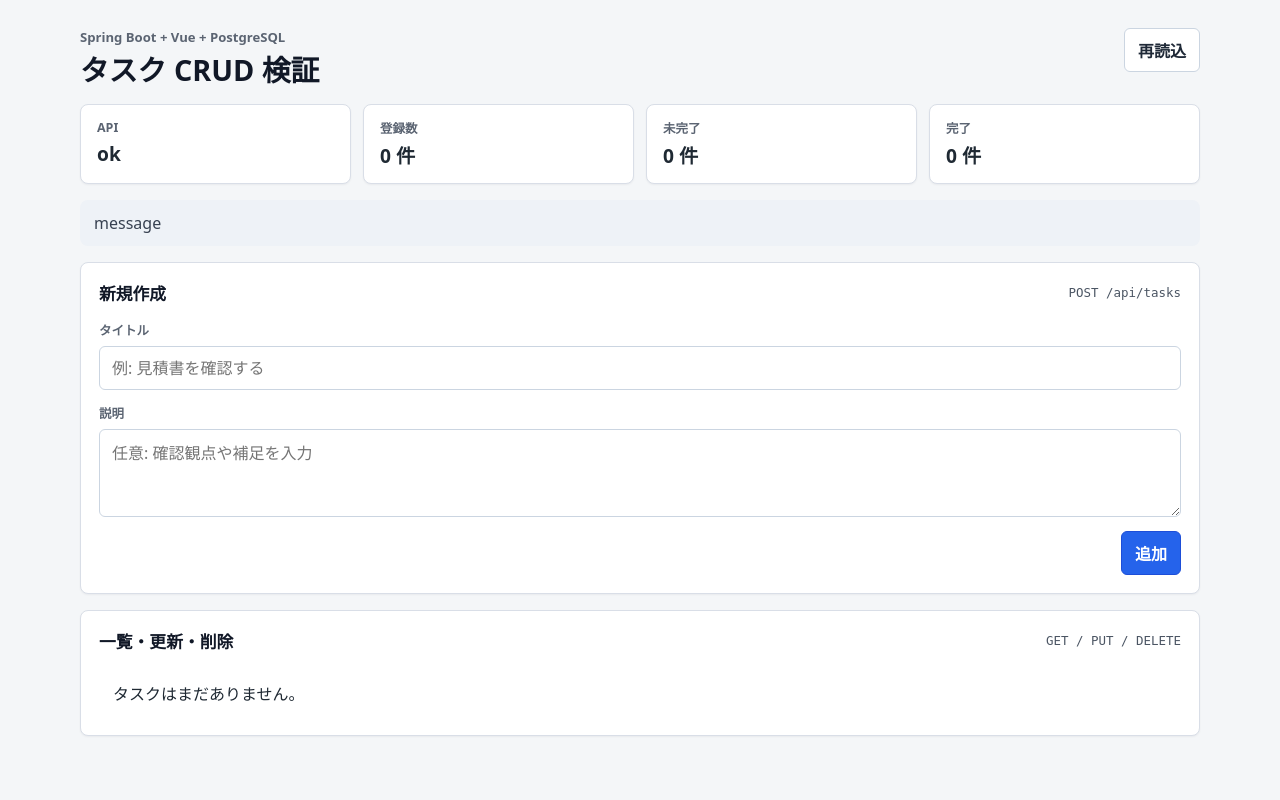
Scenario: App › HTTPエラーに詳細がない場合はステータスを表示する
The width and height of the screenshot is (1280, 800).
Type "HTTPエラー確認" into the field labelled "タイトル".
click(640, 368); type("HTTPエラー確認")  # box [99, 346, 1181, 390]
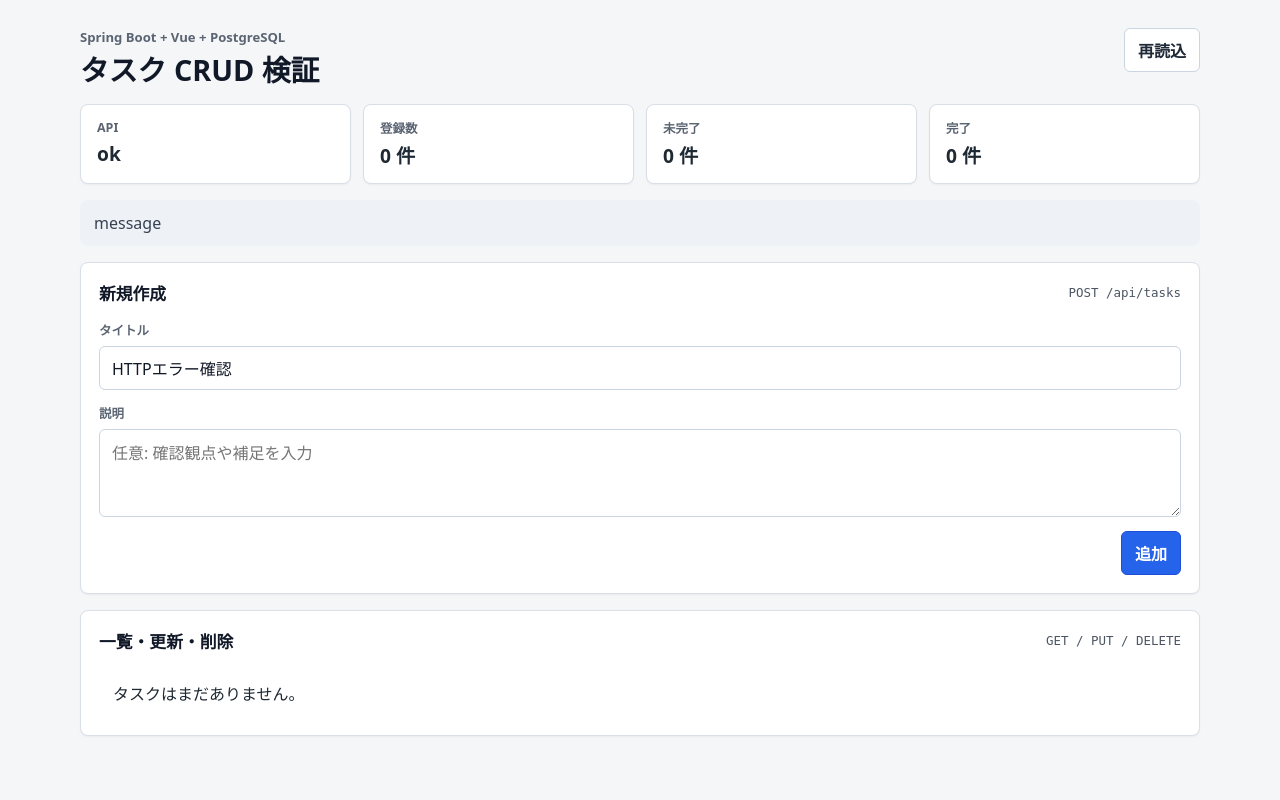
Submit the form with class "task-form", box [99, 321, 1181, 575]
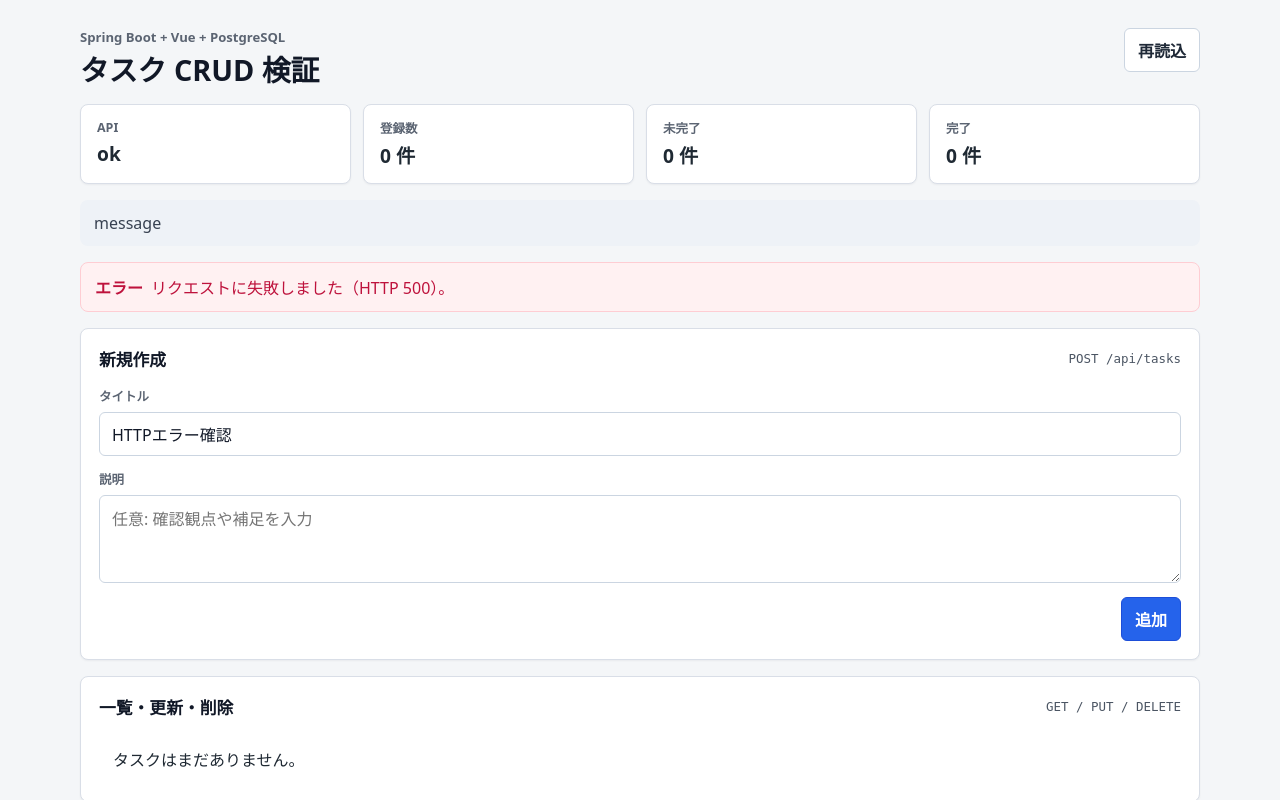
Result: the message with class "alert--error" shows "HTTP 500" at [151, 277, 454, 299]
